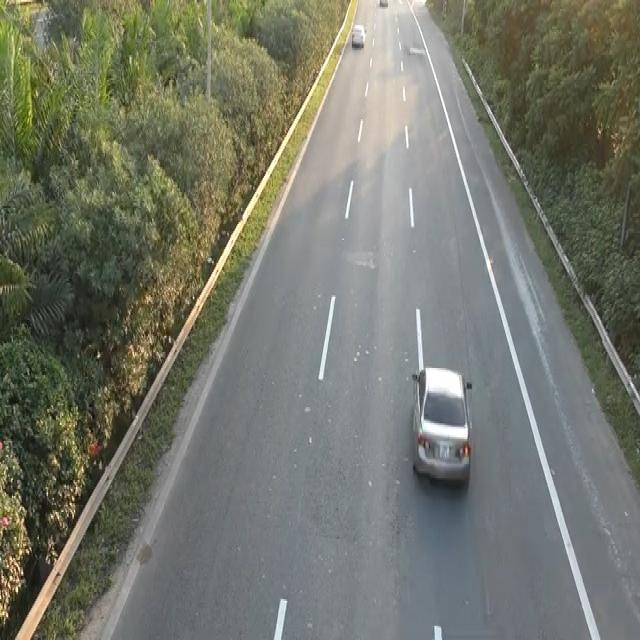bus: (407, 302, 475, 491)
